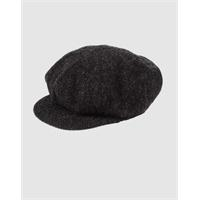hat: (34, 45, 162, 131)
